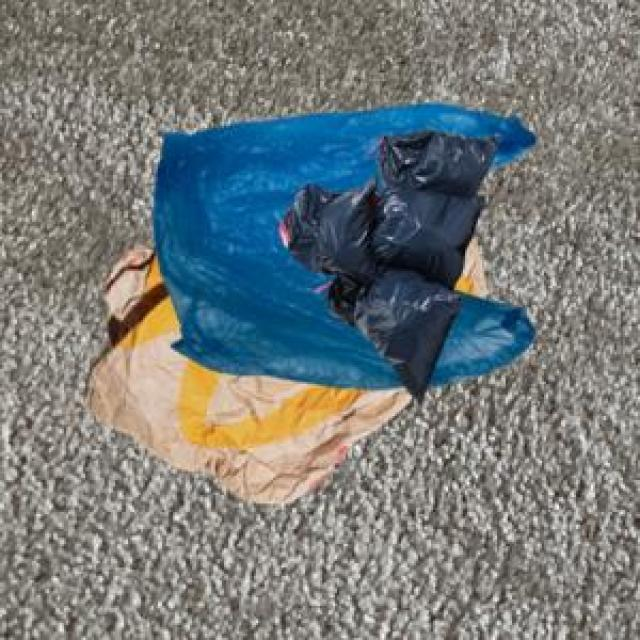miscellaneous trash: (275, 124, 496, 399)
paper: (79, 233, 482, 499)
